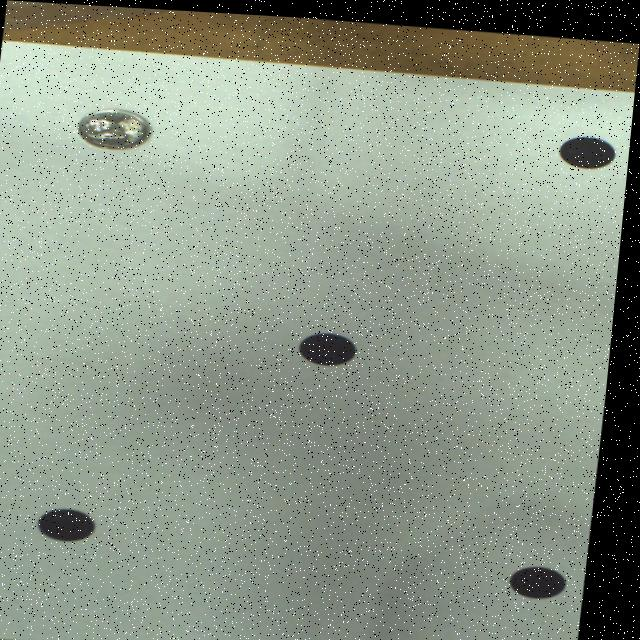head1bath: (81, 108, 153, 148)
space: (305, 328, 362, 361), (49, 507, 104, 540), (562, 129, 618, 161), (519, 559, 575, 591)
